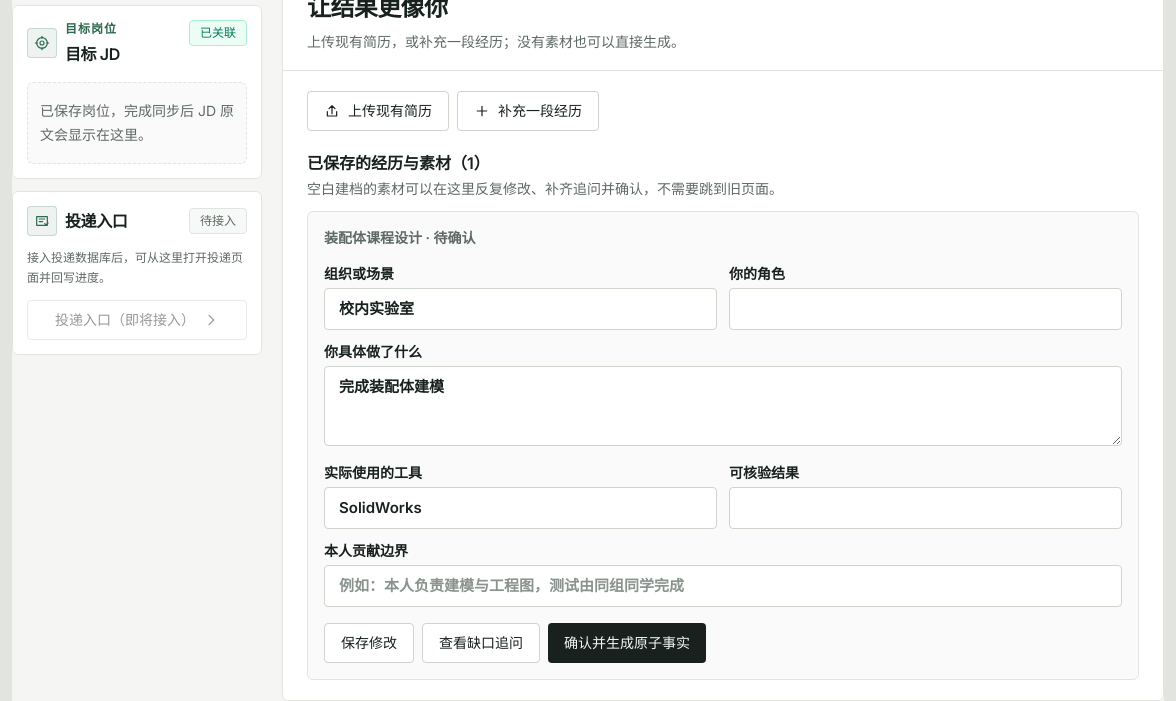
Test: 空白建档可编辑素材、查看缺口并确认原子事实
The width and height of the screenshot is (1176, 701).
(page scrolled)
Type "完成答辩并交付工程图" into the field named "装配体课程设计 结果".
click(926, 508); type("完成答辩并交付工程图")  # box [729, 487, 1122, 529]
Click the button "保存修改".
click(369, 643)  # box [324, 623, 414, 663]
(page scrolled)
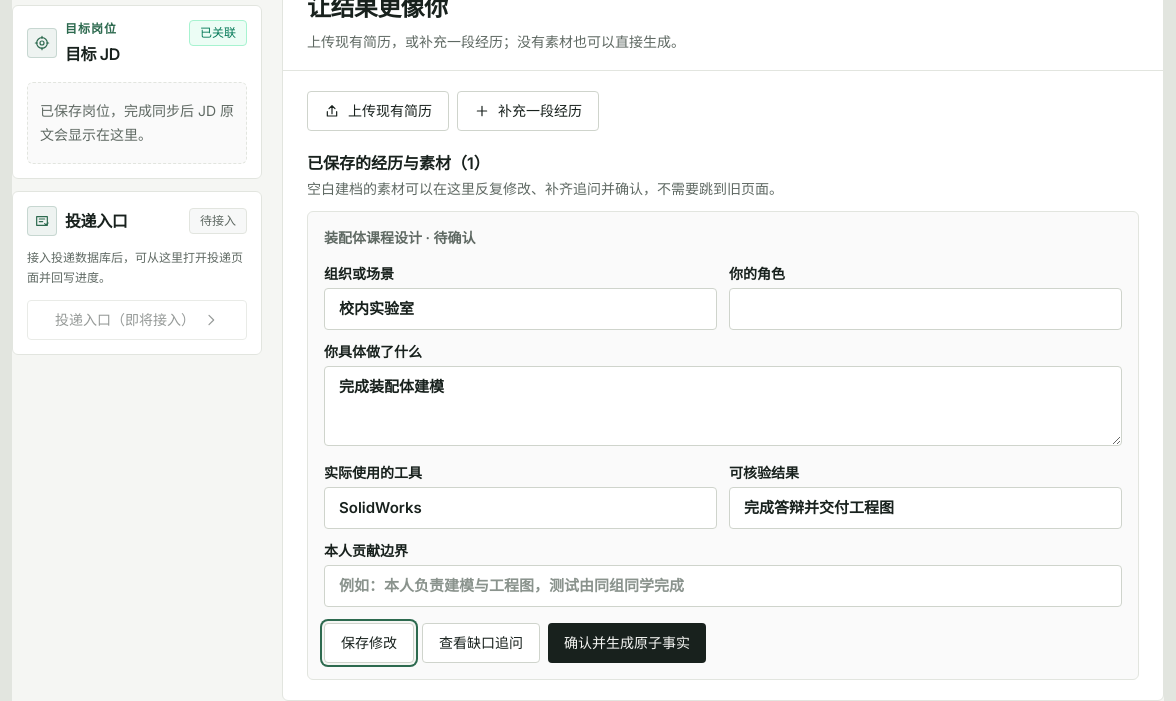
Click the button "查看缺口追问".
click(481, 643)  # box [422, 623, 540, 663]
(page scrolled)
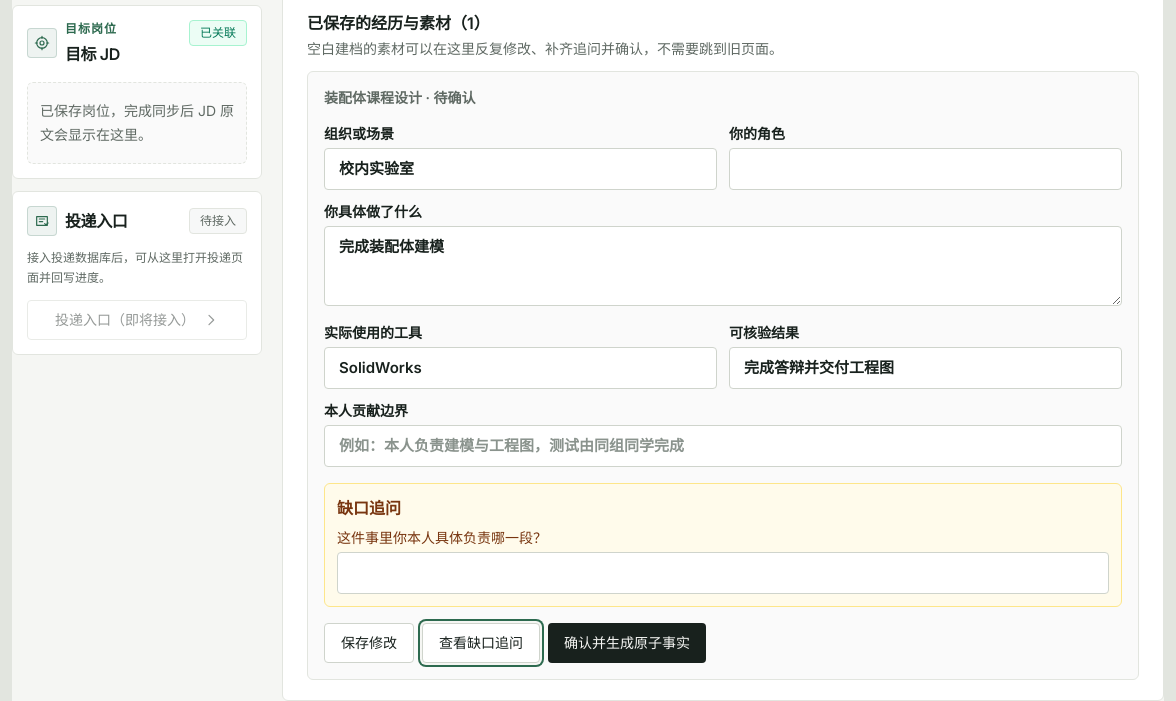
Check: the heading "缺口追问" is shown, box [337, 498, 401, 518]
Type "本人负责建模与工程图" into the field labelled "这件事里你本人具体负责哪一段？".
click(723, 573); type("本人负责建模与工程图")  # box [337, 552, 1109, 594]
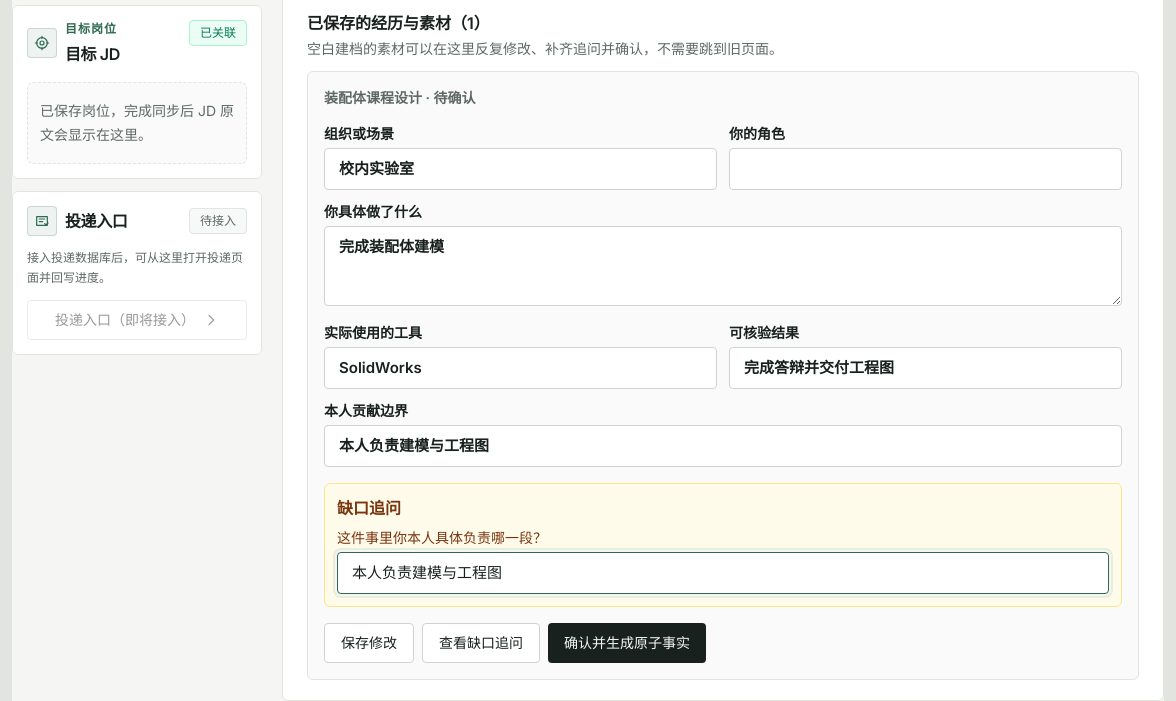
Click the button "保存修改".
click(369, 643)  # box [324, 623, 414, 663]
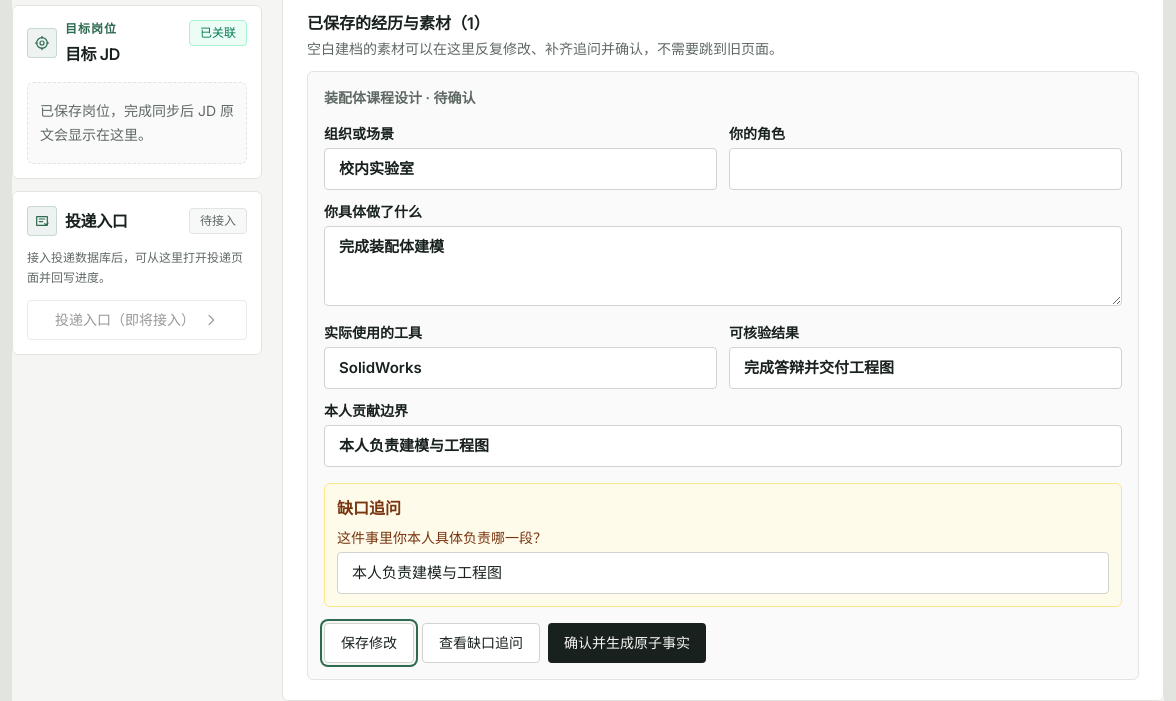
Click the button "确认并生成原子事实".
click(627, 643)  # box [548, 623, 706, 663]
(page scrolled)
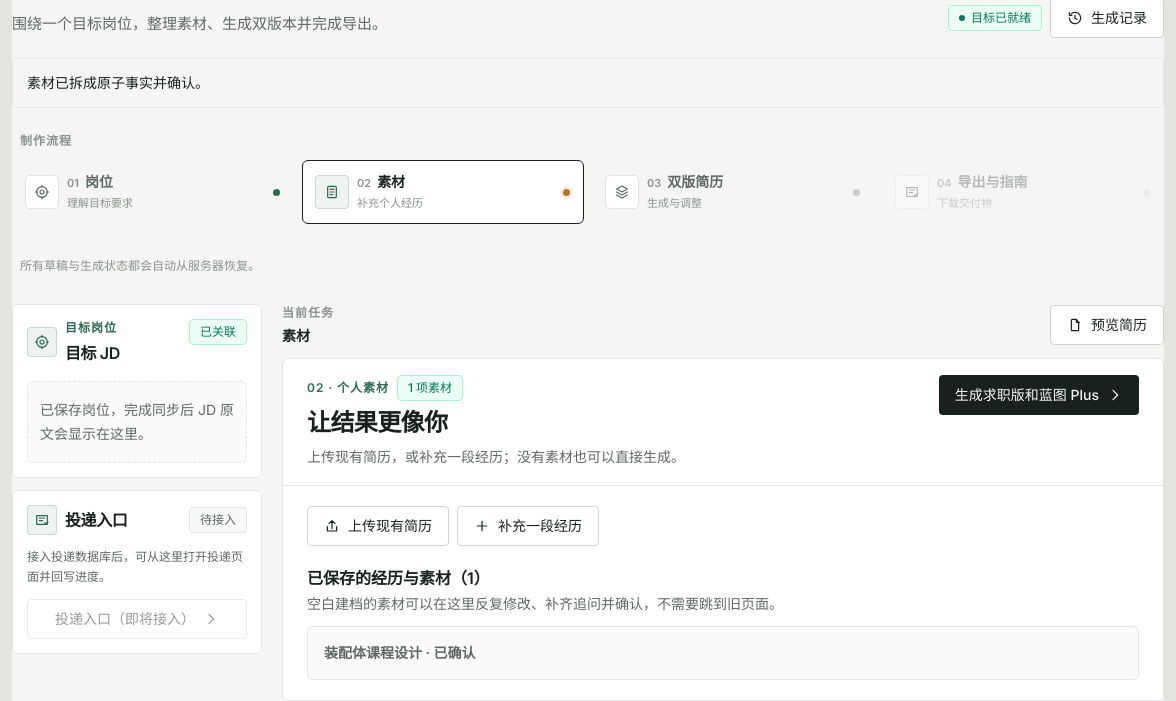
Check: the text "素材已拆成原子事实并确认。" is shown, box [12, 58, 1164, 108]
Click the heading "装配体课程设计 · 已确认".
click(400, 653)  # box [324, 644, 476, 661]
(page scrolled)
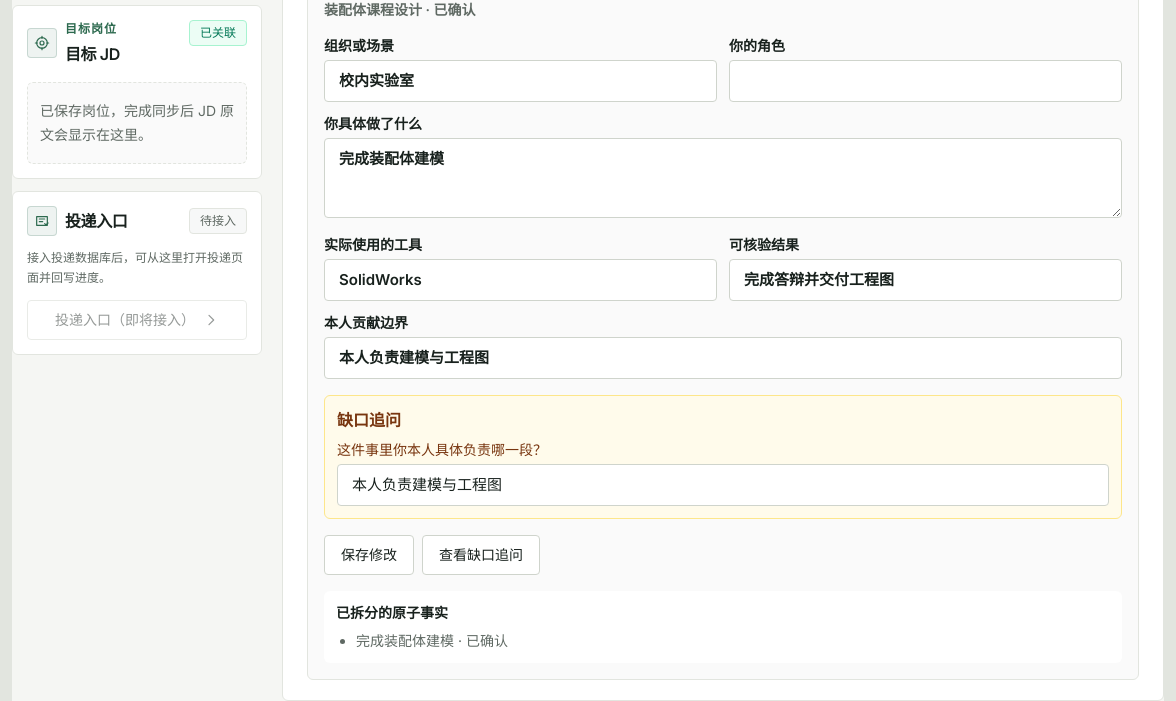
Check: the heading "已拆分的原子事实" is shown, box [336, 604, 448, 621]
Check: the list item "完成装配体建模 · 已确认" is shown, box [356, 632, 508, 649]
